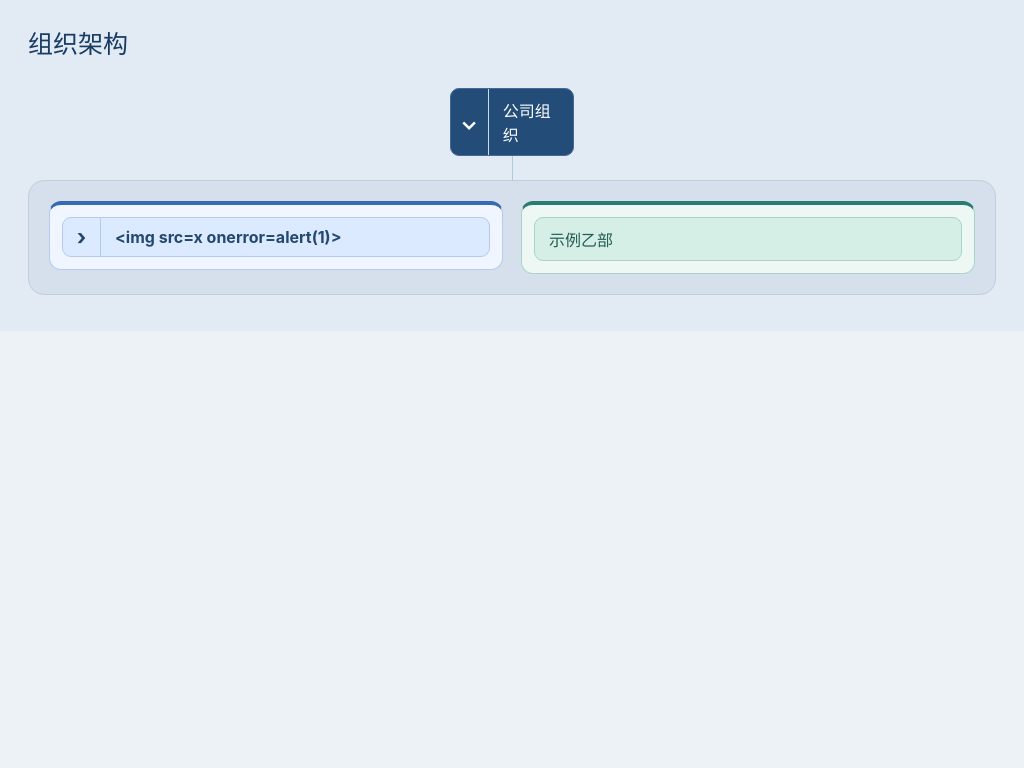
Test: shows stale snapshot only in details and treats department names as text
The image size is (1024, 768).
Click the button "<img src=x onerror=alert(1)>". click: (295, 237)
box: [101,218,489,256]
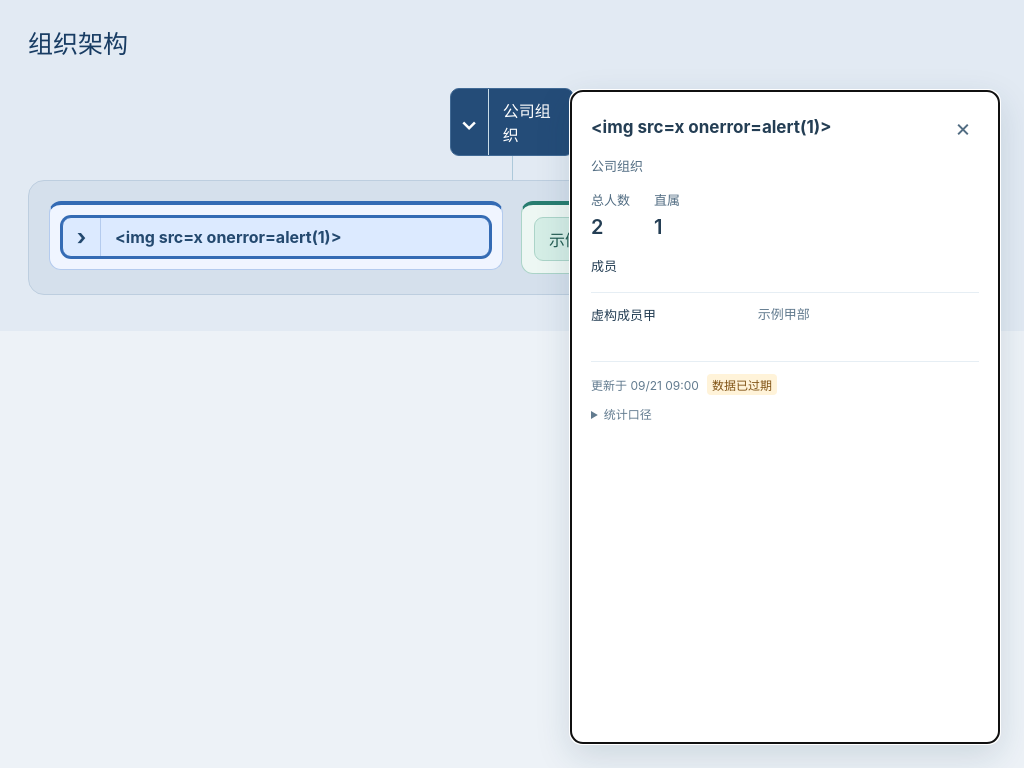
Now the text "数据已过期" is shown, box [707,374,777,395]
